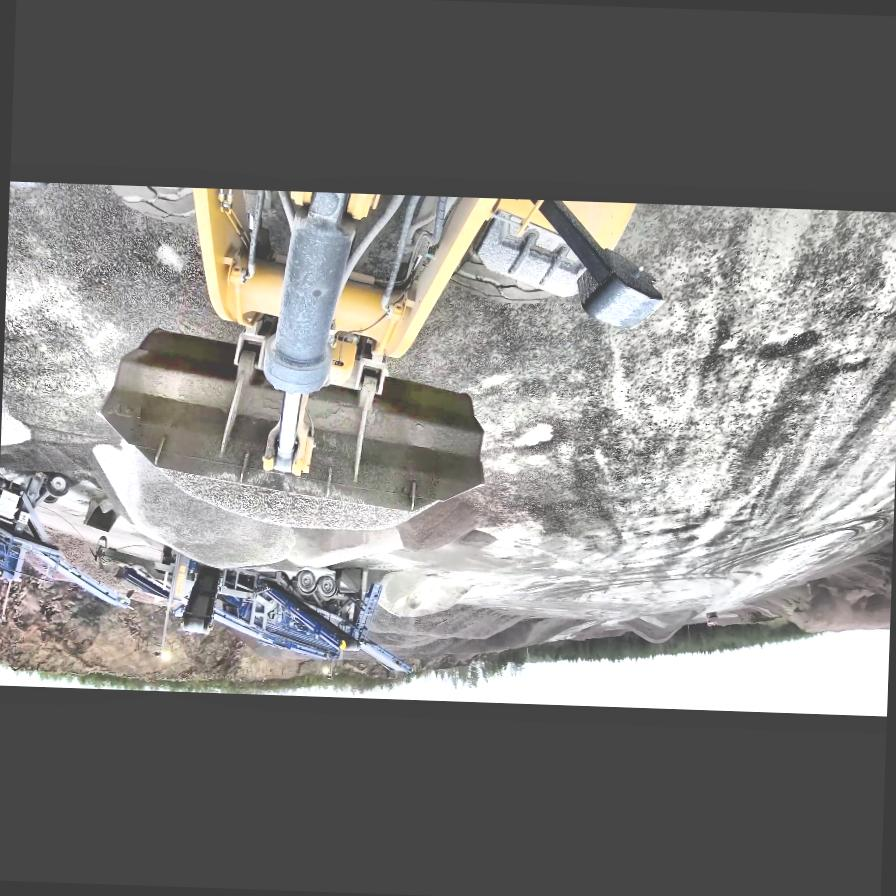anchor: (260, 390, 316, 477)
pile of gravel: (85, 432, 463, 584), (708, 526, 893, 640), (424, 614, 553, 660), (380, 568, 468, 618), (45, 534, 113, 582), (620, 611, 696, 644), (0, 392, 31, 450), (562, 622, 622, 642), (733, 606, 784, 626)
